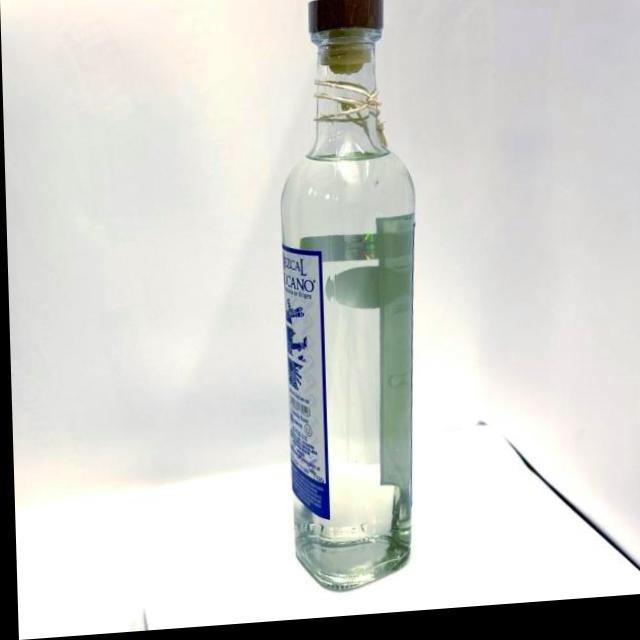MEZCAL-NUCANO-JOVEN-750ml-90proof: (278, 2, 415, 601)
